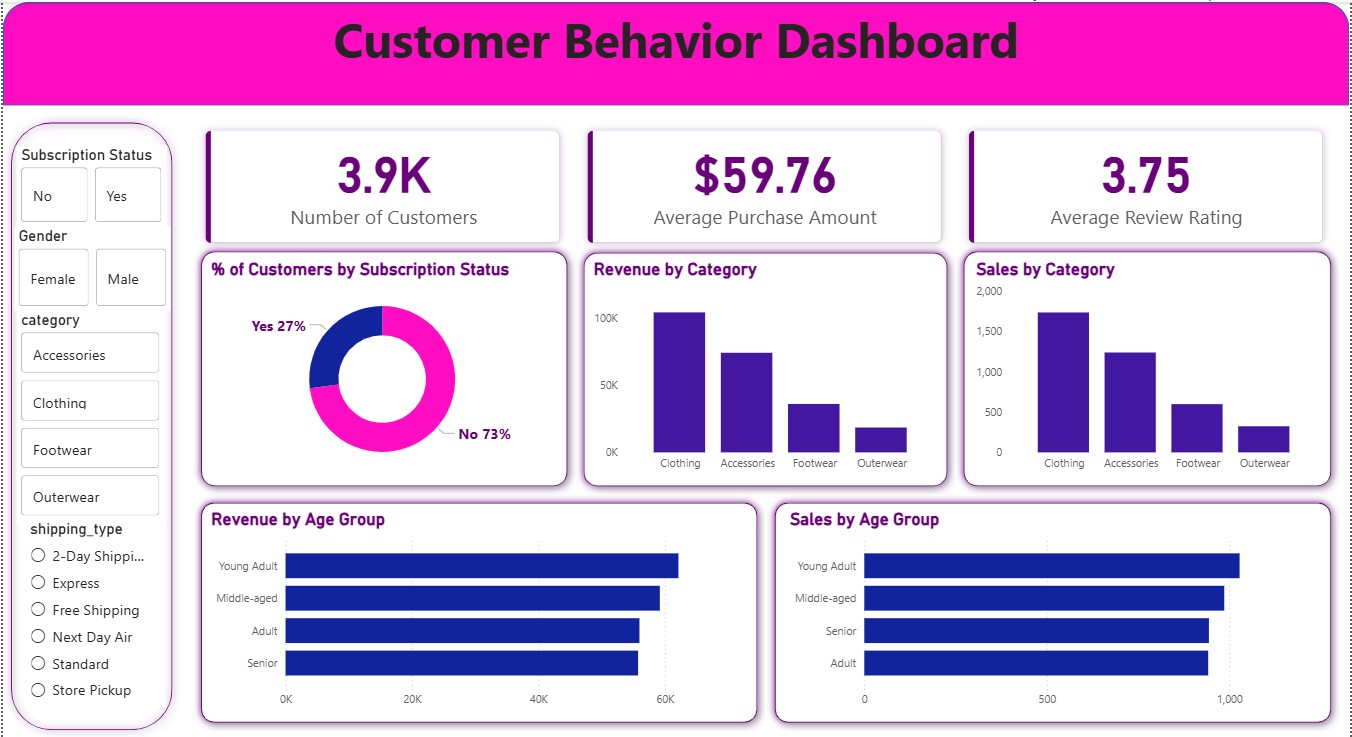

The dashboard page shown, as its layout file describes it:
{"tool":"powerbi","page":{"name":"Page 1","canvas":[1500,820],"ordinal":0},"visuals":[{"type":"cardVisual","fields":{"Data":["public customer.Number of Customers","public customer.Average Purchase Amount","public customer.Average Review Rating"]},"box":[197.8,115.6,1302.1,181],"z":0},{"type":"shape","box":[0,0,1499.9,115.6],"z":1000},{"type":"textbox","box":[0,0,1499.9,85],"z":2000},{"type":"shape","box":[211.7,268.8,426.2,279.9],"z":3000},{"type":"shape","box":[637.8,270.2,423.4,278.5],"z":4000},{"type":"shape","box":[1061.2,268.8,427.5,279.9],"z":5000},{"type":"donutChart","title":"% of Customers by Subscription Status","fields":{"Category":["public customer.subscription_status"],"Y":["CountNonNull(public customer.customer_id)"]},"box":[227,286.9,391.3,245.1],"z":6000},{"type":"clusteredColumnChart","title":"Revenue by Category","fields":{"Y":["Sum(public customer.purchase_amount)"],"Category":["public customer.category"]},"box":[653.2,286.9,391.3,245.1],"z":7000},{"type":"clusteredColumnChart","title":"Sales by Category","fields":{"Y":["CountNonNull(public customer.customer_id)"],"Category":["public customer.category"]},"box":[1079.3,286.9,391.3,245.1],"z":8000},{"type":"shape","box":[0,125.3,197.8,694.9],"z":9000},{"type":"advancedSlicerVisual","fields":{"Values":["public customer.subscription_status"]},"box":[15.3,160.2,167.1,90.5],"z":10000},{"type":"advancedSlicerVisual","fields":{"Values":["public customer.gender"]},"box":[12.5,250.7,174.1,93.3],"z":11000},{"type":"advancedSlicerVisual","fields":{"Values":["public customer.category"]},"box":[15.3,344,164.3,236.8],"z":12000},{"type":"listSlicer","fields":{"Values":["public customer.shipping_type"]},"box":[25.1,576.6,156,208.9],"z":13000},{"type":"clusteredBarChart","title":"Revenue by Age Group","fields":{"Y":["Sum(public customer.purchase_amount)"],"Category":["public customer.age_group"]},"box":[232.6,566.8,596.1,229.8],"z":14000},{"type":"shape","box":[211.7,548.7,637.8,263.2],"z":15000},{"type":"clusteredBarChart","title":"Revenue by Age Group","fields":{"Y":["Sum(public customer.purchase_amount)"],"Category":["public customer.age_group"]},"box":[227,565.4,596.1,229.8],"z":15001},{"type":"shape","box":[850.9,548.7,637.8,263.2],"z":15002},{"type":"clusteredBarChart","title":"Sales by Age Group","fields":{"Y":["CountNonNull(public customer.customer_id)"],"Category":["public customer.age_group"]},"box":[871.8,565.4,596.1,229.8],"z":15003}]}

Visuals, with their boxes in screenshot pixels (x1, y1, x2, y2), scaled from the page's 1500x820 canvas onto the 1352x737 screenshot:
cardVisual - public customer.Number of Customers x public customer.Average Purchase Amount: (178,104,1351,267)
shape: (0,0,1351,104)
textbox: (0,0,1351,76)
shape: (191,242,575,493)
shape: (575,243,956,493)
shape: (956,242,1342,493)
"% of Customers by Subscription Status" donutChart: (205,258,557,478)
"Revenue by Category" clusteredColumnChart: (589,258,941,478)
"Sales by Category" clusteredColumnChart: (973,258,1326,478)
shape: (0,113,178,736)
advancedSlicerVisual - public customer.subscription_status: (14,144,164,225)
advancedSlicerVisual - public customer.gender: (11,225,168,309)
advancedSlicerVisual - public customer.category: (14,309,162,522)
listSlicer - public customer.shipping_type: (23,518,163,706)
"Revenue by Age Group" clusteredBarChart: (210,509,747,716)
shape: (191,493,766,730)
"Revenue by Age Group" clusteredBarChart: (205,508,742,715)
shape: (767,493,1342,730)
"Sales by Age Group" clusteredBarChart: (786,508,1323,715)
